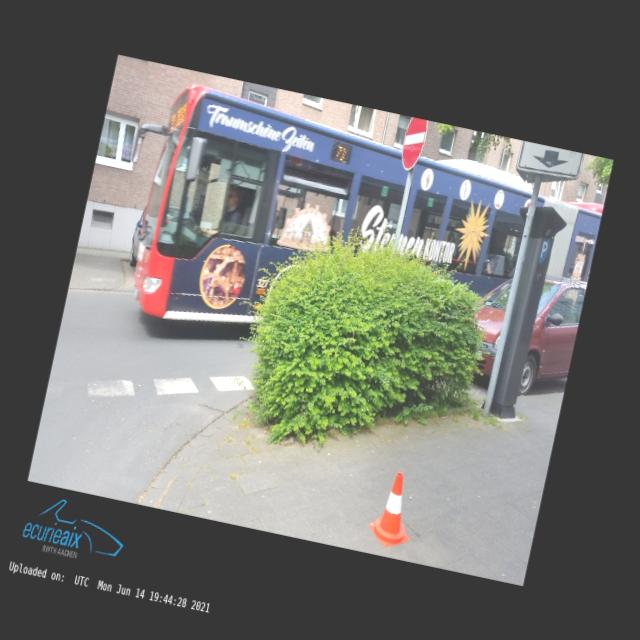orange_cone: (364, 469, 422, 551)
